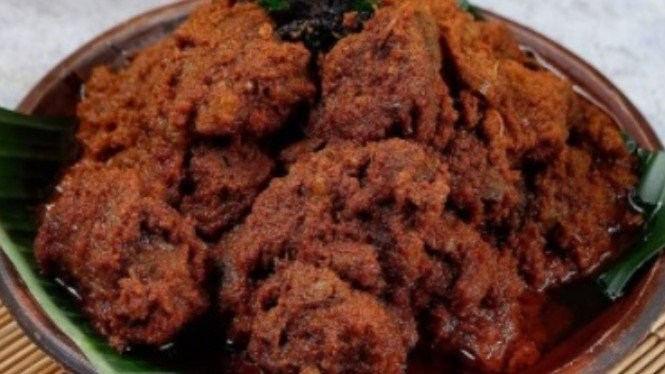rendang: (22, 3, 648, 373)
